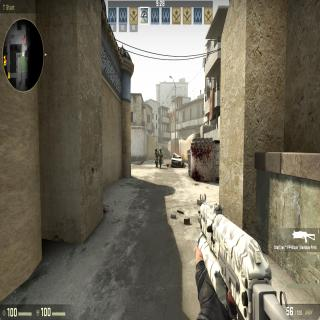CT-Body: (159, 147, 163, 169), (154, 147, 158, 168)
CT-Head: (159, 146, 161, 152), (155, 146, 157, 152)
